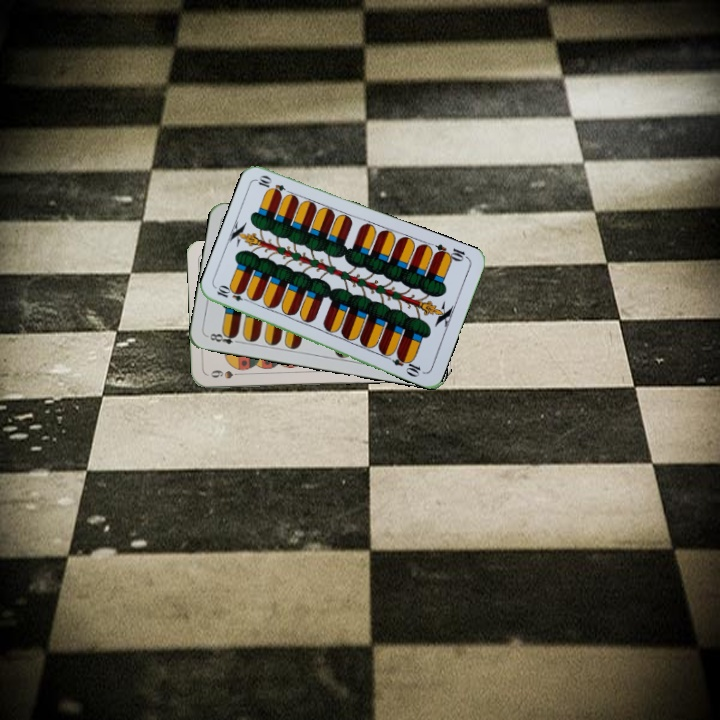E10: (430, 240, 471, 264), (213, 283, 253, 305)
E8: (204, 328, 244, 347)
S9: (207, 366, 246, 381)
